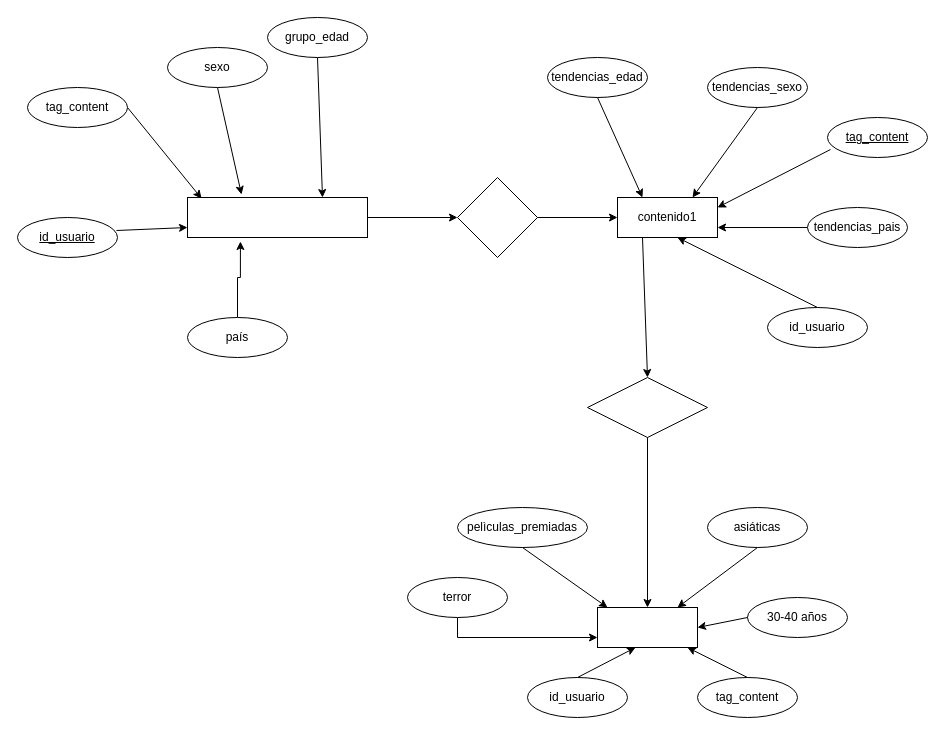
Some shapes in this 945 by 735 pixel diagram are drawn without their labels. The centre of each missing label's shape, as x and y in pixels:
"depura" belongs at (x=647, y=407).
"nuevo_contenido" belongs at (x=647, y=627).
"personas_usuarias" belongs at (x=277, y=217).
"seleccionan" belongs at (x=497, y=217).
